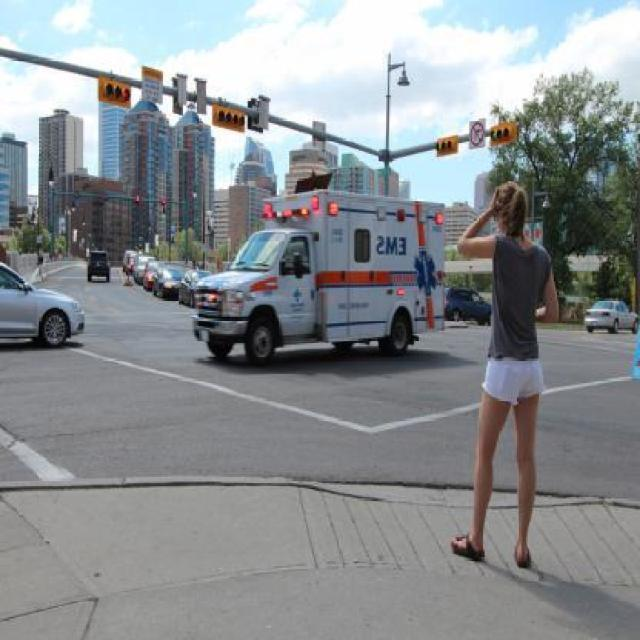emergency: (190, 188, 446, 364)
